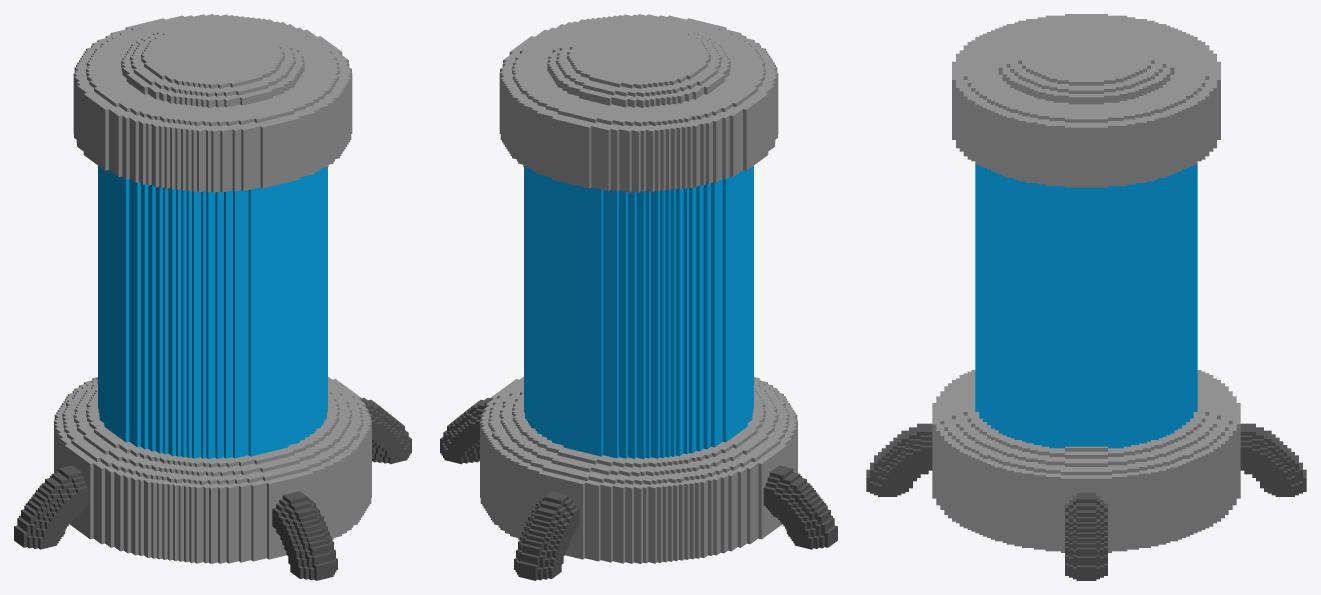
The model's file is Potion Maker6.fbx.
3 views of the same model, side by side, from view 1: azimuth 30°, elevation 25°; view 2: azimuth 150°, elevation 25°; view 3: azimuth 270°, elevation 25° (orthographic).
Visible parts, largest first — view 1: Potion Maker1-3, Potion Maker1-8-1; view 2: Potion Maker1-3, Potion Maker1-8-1; view 3: Potion Maker1-3, Potion Maker1-8-1.
Part boxes in pixels (x1=…): Potion Maker1-3: x1=14, y1=14, x2=411, y2=580; Potion Maker1-8-1: x1=98, y1=165, x2=327, y2=458; Potion Maker1-3: x1=440, y1=14, x2=837, y2=580; Potion Maker1-8-1: x1=524, y1=165, x2=753, y2=458; Potion Maker1-3: x1=866, y1=14, x2=1306, y2=580; Potion Maker1-8-1: x1=975, y1=164, x2=1197, y2=448.
Size of the model in its own units: 1130 by 1230 by 1130.
